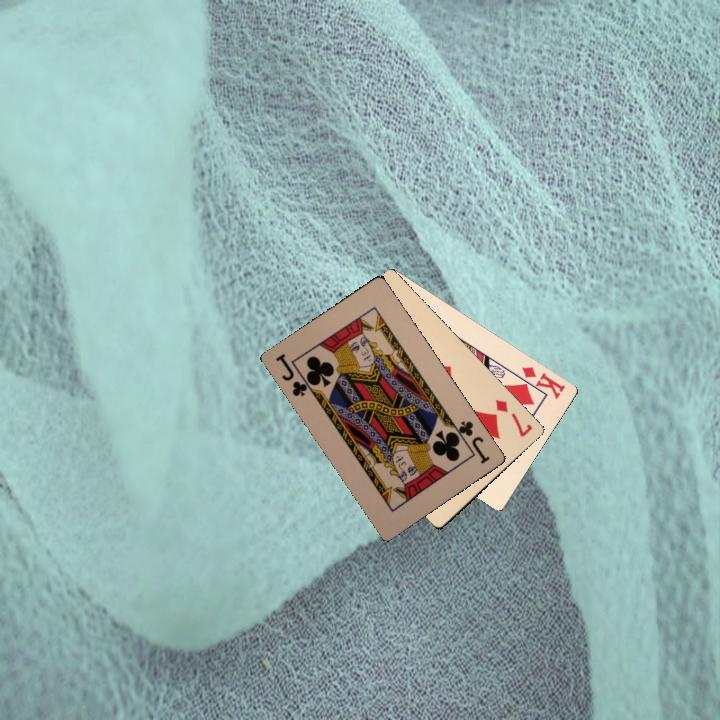7d: (491, 395, 535, 440)
Jc: (271, 349, 316, 399), (448, 417, 493, 466)
Kd: (514, 362, 568, 402)
